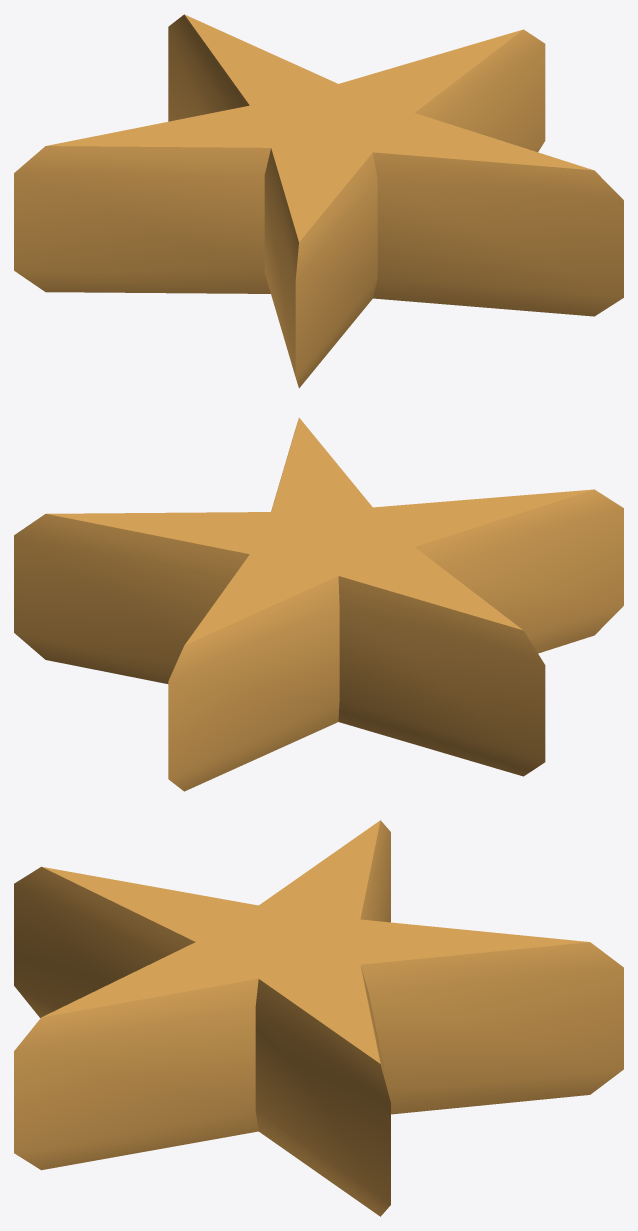
The model's file is Star_5P_01.fbx.
3 views of the same model, one above another, from view 1: azimuth 30°, elevation 25°; view 2: azimuth 150°, elevation 25°; view 3: azimuth 270°, elevation 25° (orthographic). The views are drawn at different scales.
Visible parts, largest first — view 1: Star_5P_01; view 2: Star_5P_01; view 3: Star_5P_01.
Part boxes in pixels (left/top/right/bottom): Star_5P_01: left=14, top=14, right=623, bottom=388; Star_5P_01: left=14, top=417, right=623, bottom=791; Star_5P_01: left=14, top=820, right=623, bottom=1216.
Bounding box in the file's own units: 380 × 100 × 362.
